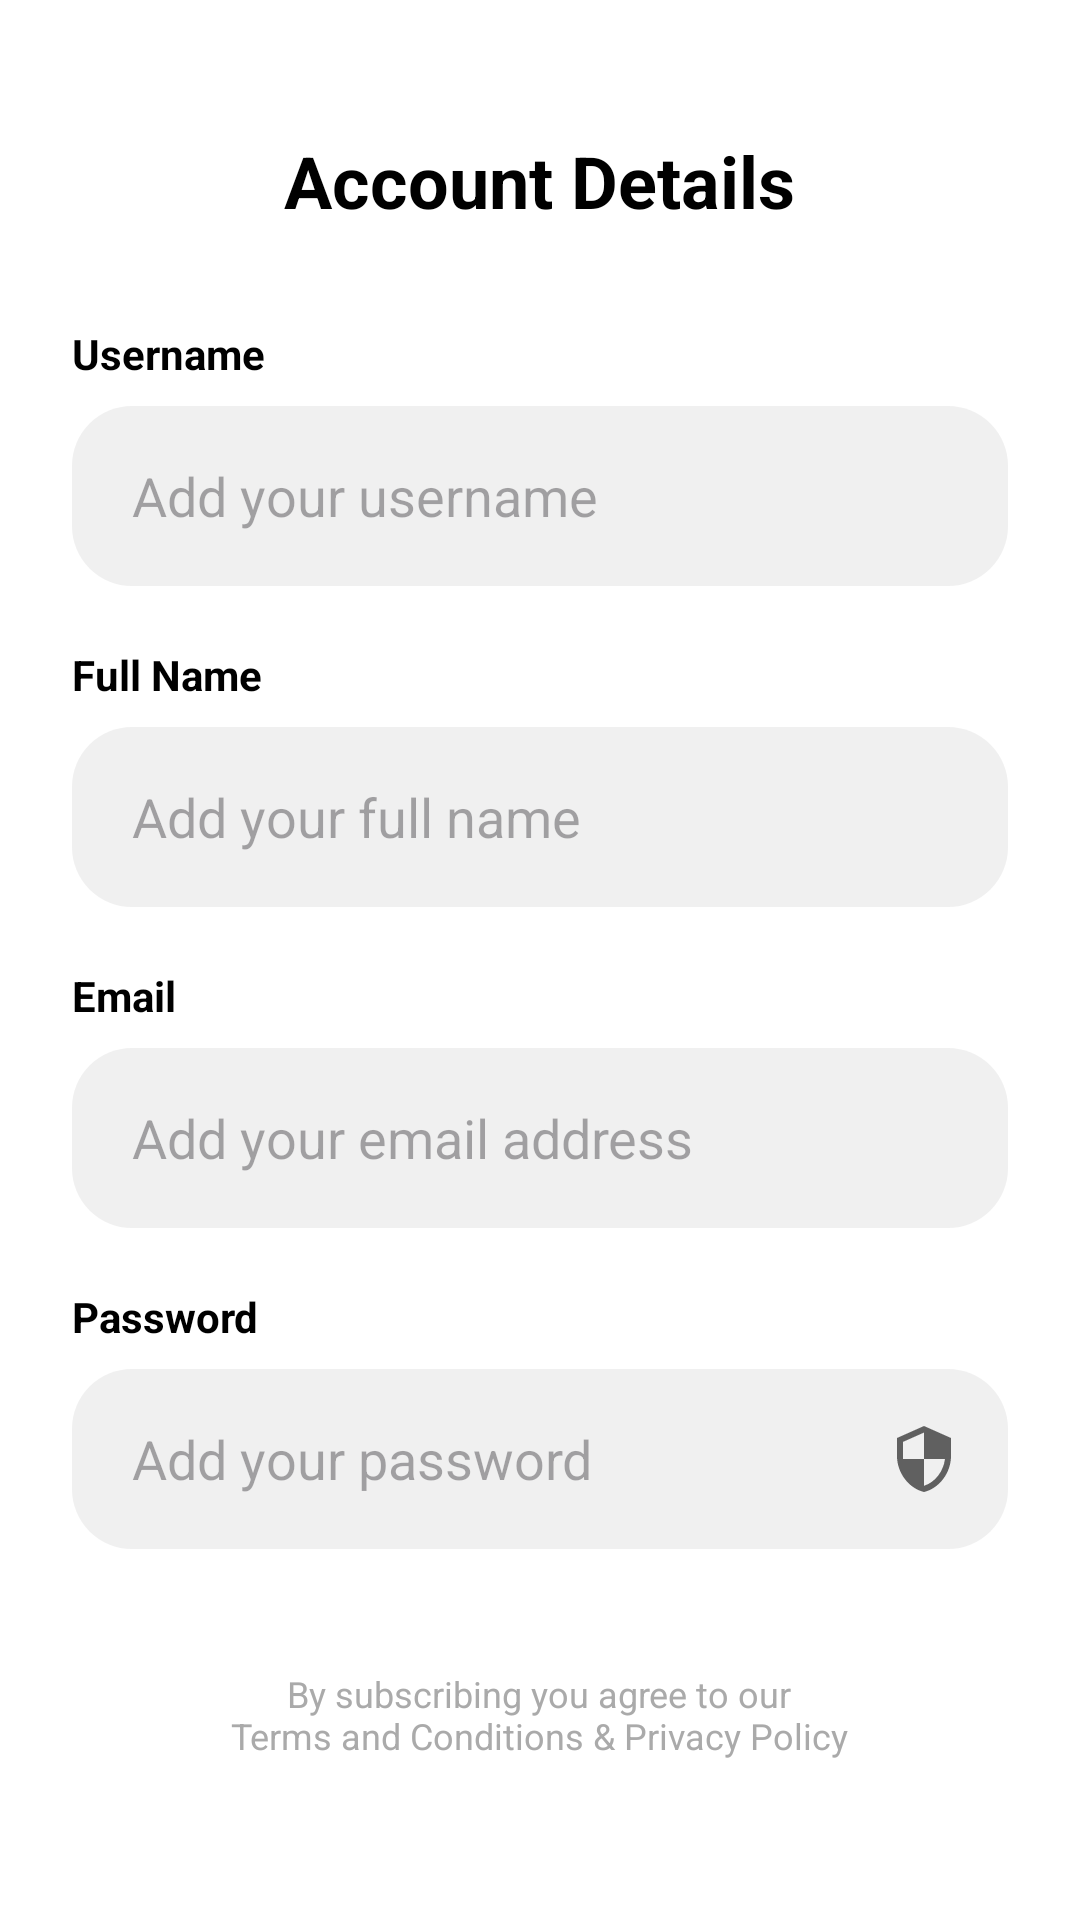

Named icons in this screenshot (1080px×1920px) and their bounding boxes, (x1, y1, x2, y2):
security: (897, 1426, 951, 1492)
